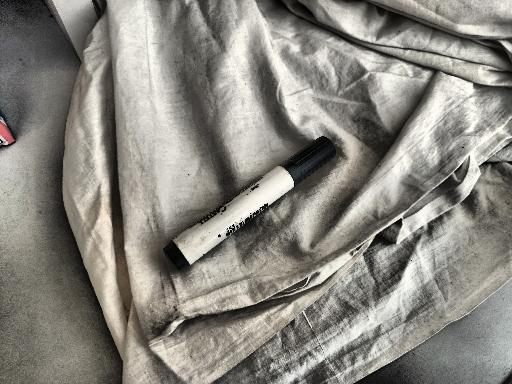marcador negro: (163, 137, 336, 270)
